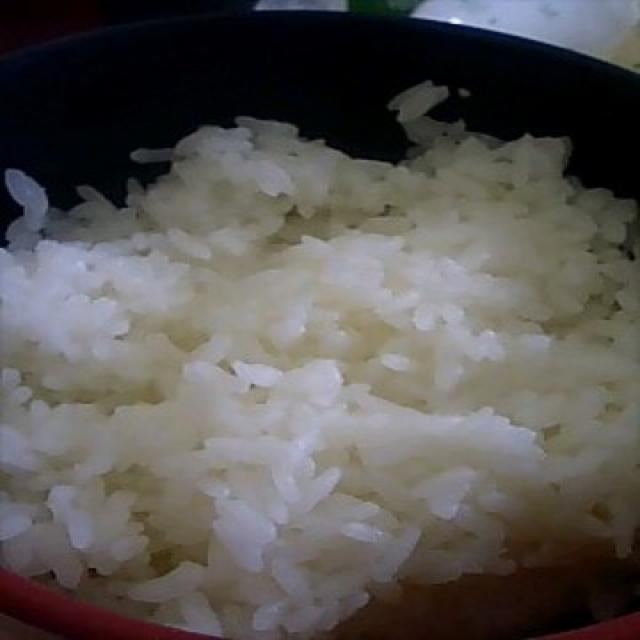rice: (0, 81, 640, 640)
